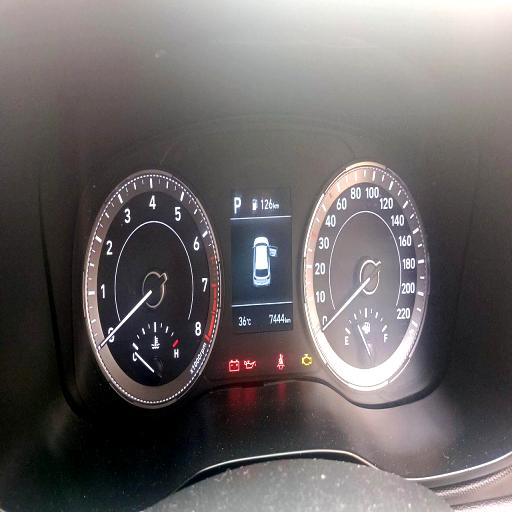belt: (277, 353, 285, 370)
check_engine: (302, 354, 312, 367)
oil: (244, 360, 256, 370)
tachometer: (82, 167, 221, 404)
vehicle_charging: (228, 359, 240, 371)
